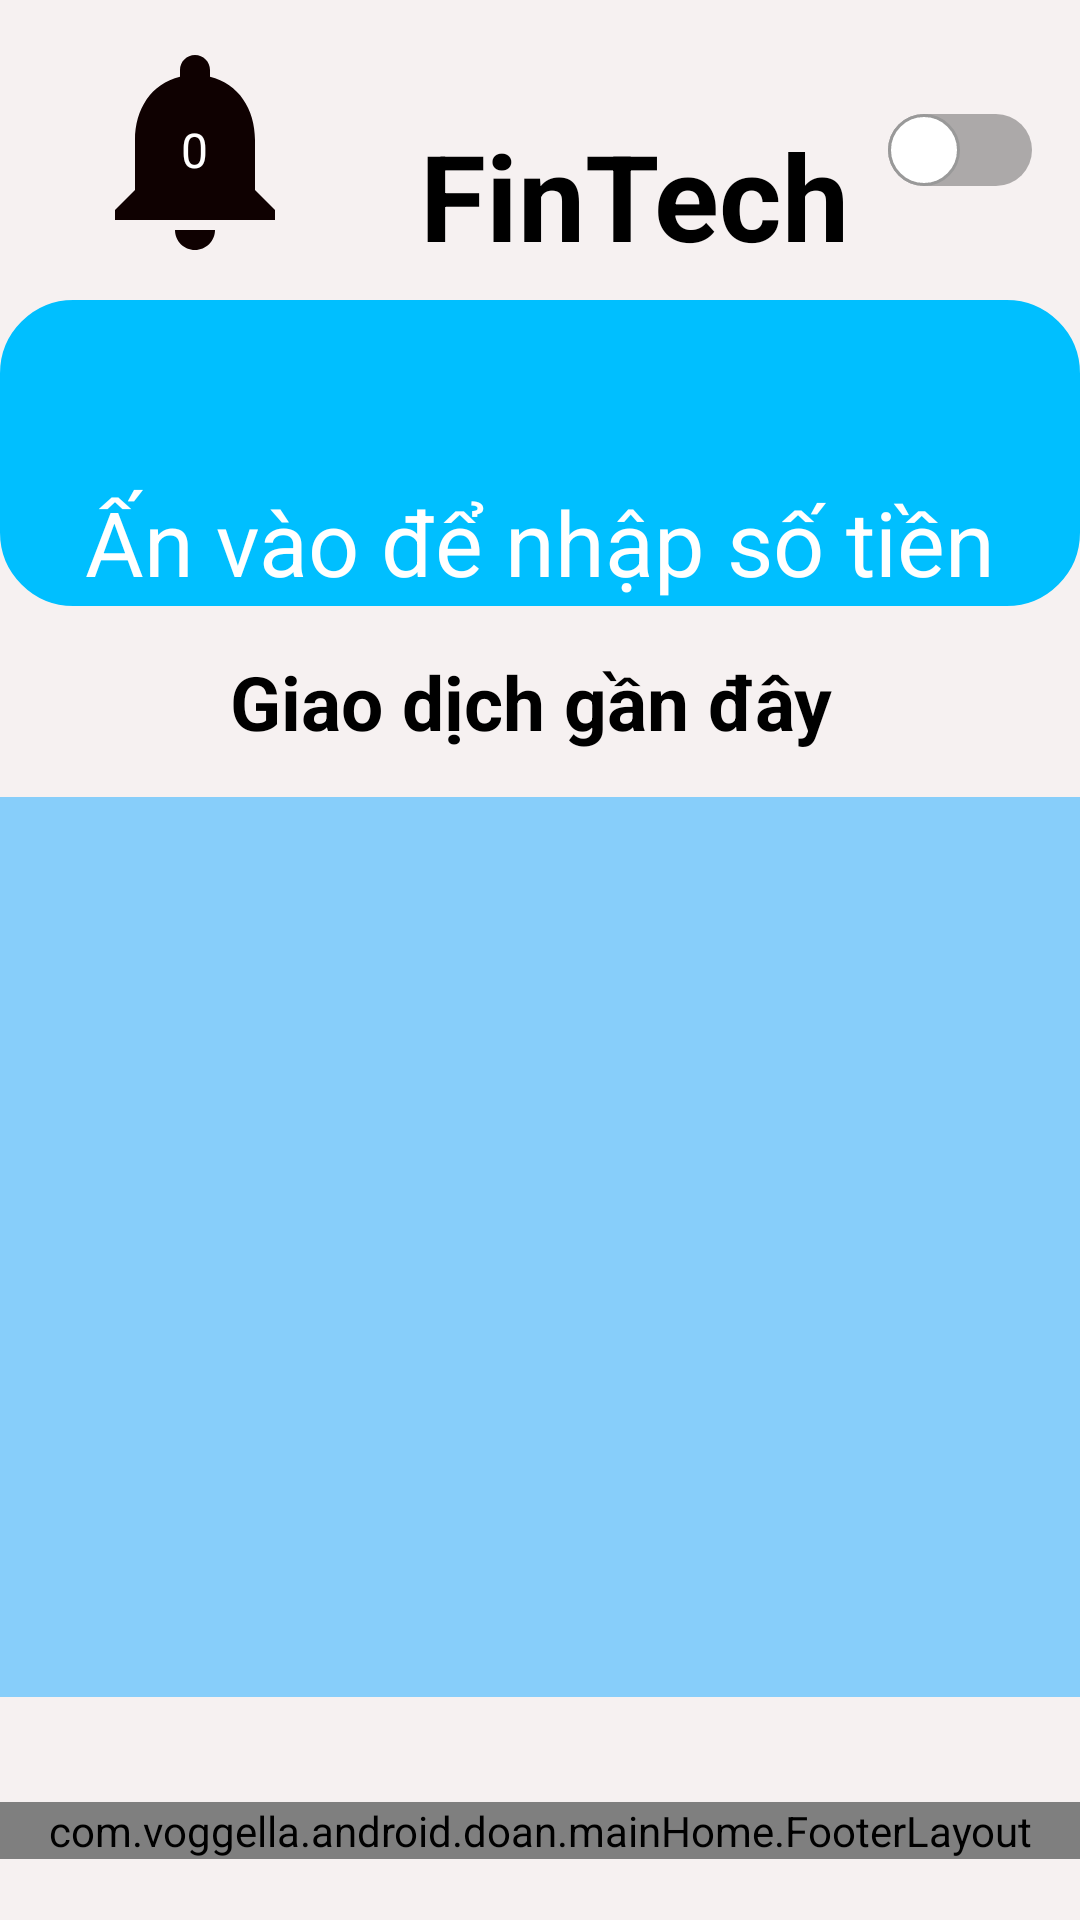

Icons on this 1080w x 1920h Android screen, each with the point to tap as (x,y):
noti homescreen: (195,152)
